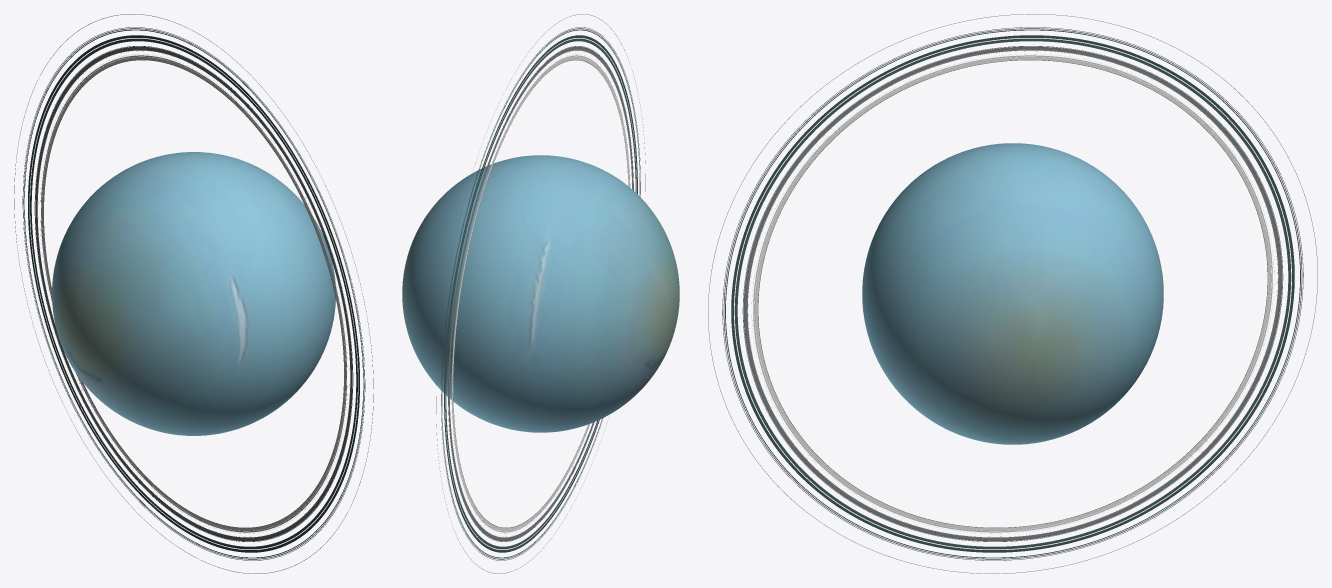
The model's file is uranus.glb.
The picture shows the model from 3 angles, left to right: view 1: azimuth 30°, elevation 25°; view 2: azimuth 150°, elevation 25°; view 3: azimuth 270°, elevation 25°; orthographic projection. The views are drawn at different scales.
Parts seen in each view (by area): view 1: node_id5, node_id8; view 2: node_id5, node_id8; view 3: node_id5, node_id8.
Part boxes in pixels (x1,y1,x2,y2): node_id5: (52, 152, 335, 435); node_id8: (14, 14, 373, 573); node_id5: (402, 155, 679, 432); node_id8: (436, 14, 645, 573); node_id5: (862, 143, 1163, 444); node_id8: (708, 14, 1317, 573).
Size of the model in its own units: 0.2506 by 0.512 by 0.5066.
2 materials, 2 textured.
